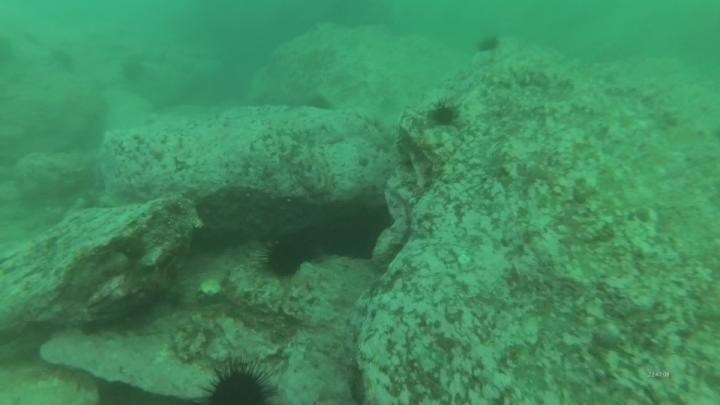echinus: (200, 361, 279, 404), (259, 231, 319, 279), (426, 99, 462, 129), (119, 56, 148, 85), (47, 46, 77, 74), (474, 33, 502, 55)
